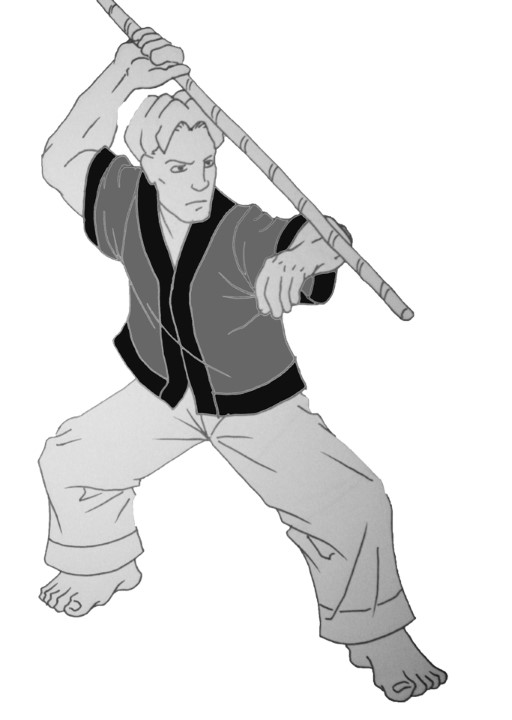baston_e: (98, 9, 431, 305)
baston_v: (391, 289, 424, 330)
